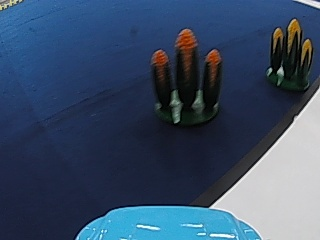corn: (150, 32, 223, 128), (264, 15, 314, 91)
